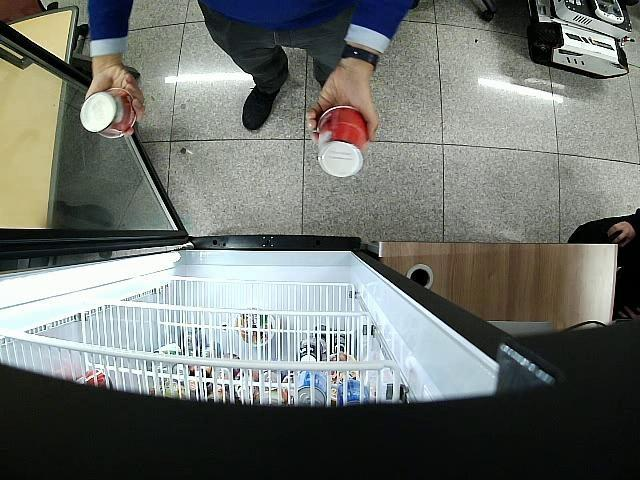02_shinRamen_S: (317, 106, 370, 178), (80, 89, 137, 139)
